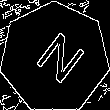N_SW: (24, 26, 85, 90)
